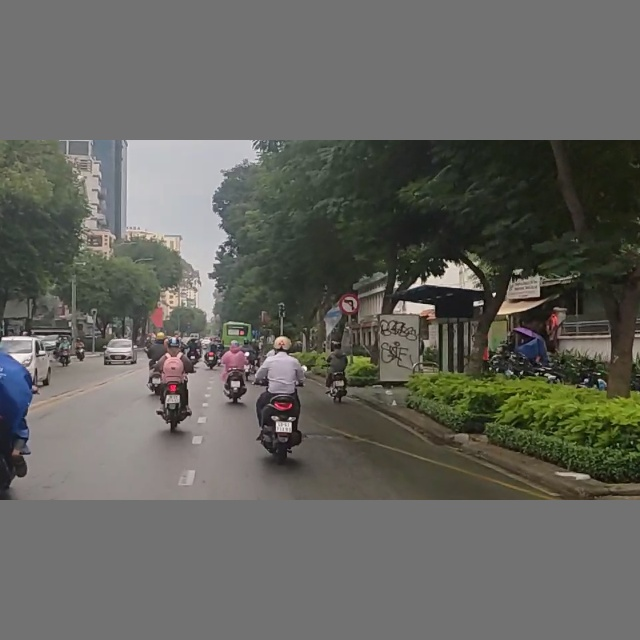P.123a: (340, 294, 361, 314)
